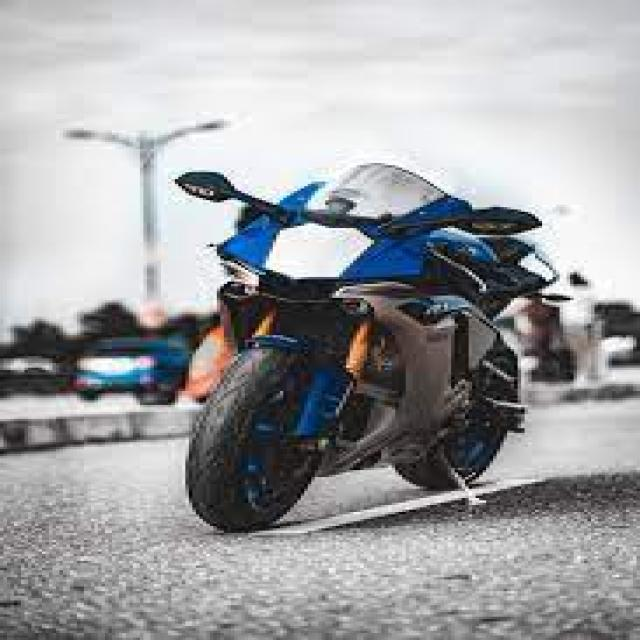Bike: (171, 163, 574, 535)
